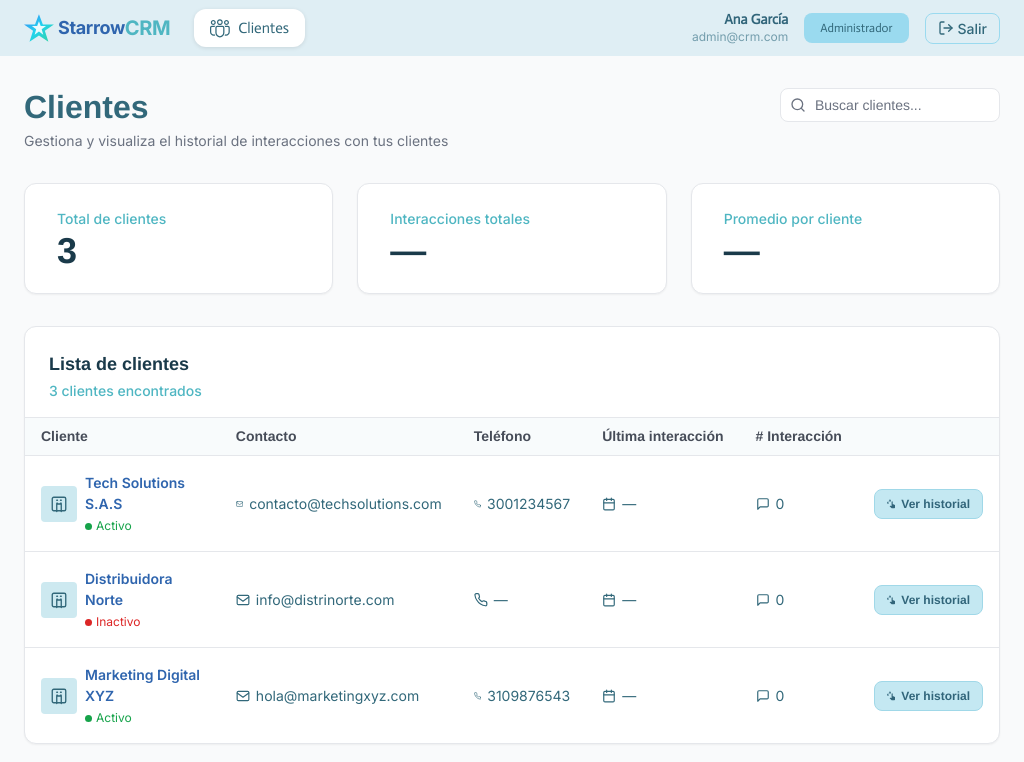
ClientesPage — HU-06: Buscador de clientes › filtra clientes por nombre de empresa
Type "Tech" into the search field with placeholder "Buscar clientes...".
click(890, 105); type("Tech")  # box [780,88,1000,122]
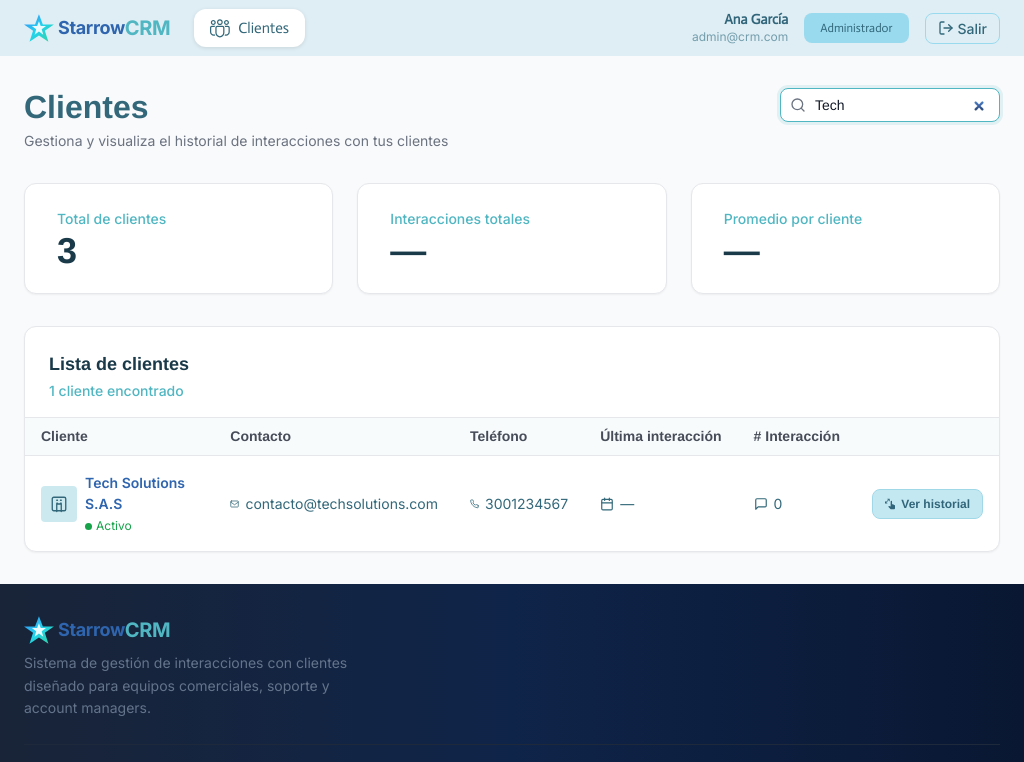
Expected: the text "Tech Solutions S.A.S" is shown, [85,472,198,514]
Expected: the text "Distribuidora Norte" is gone
